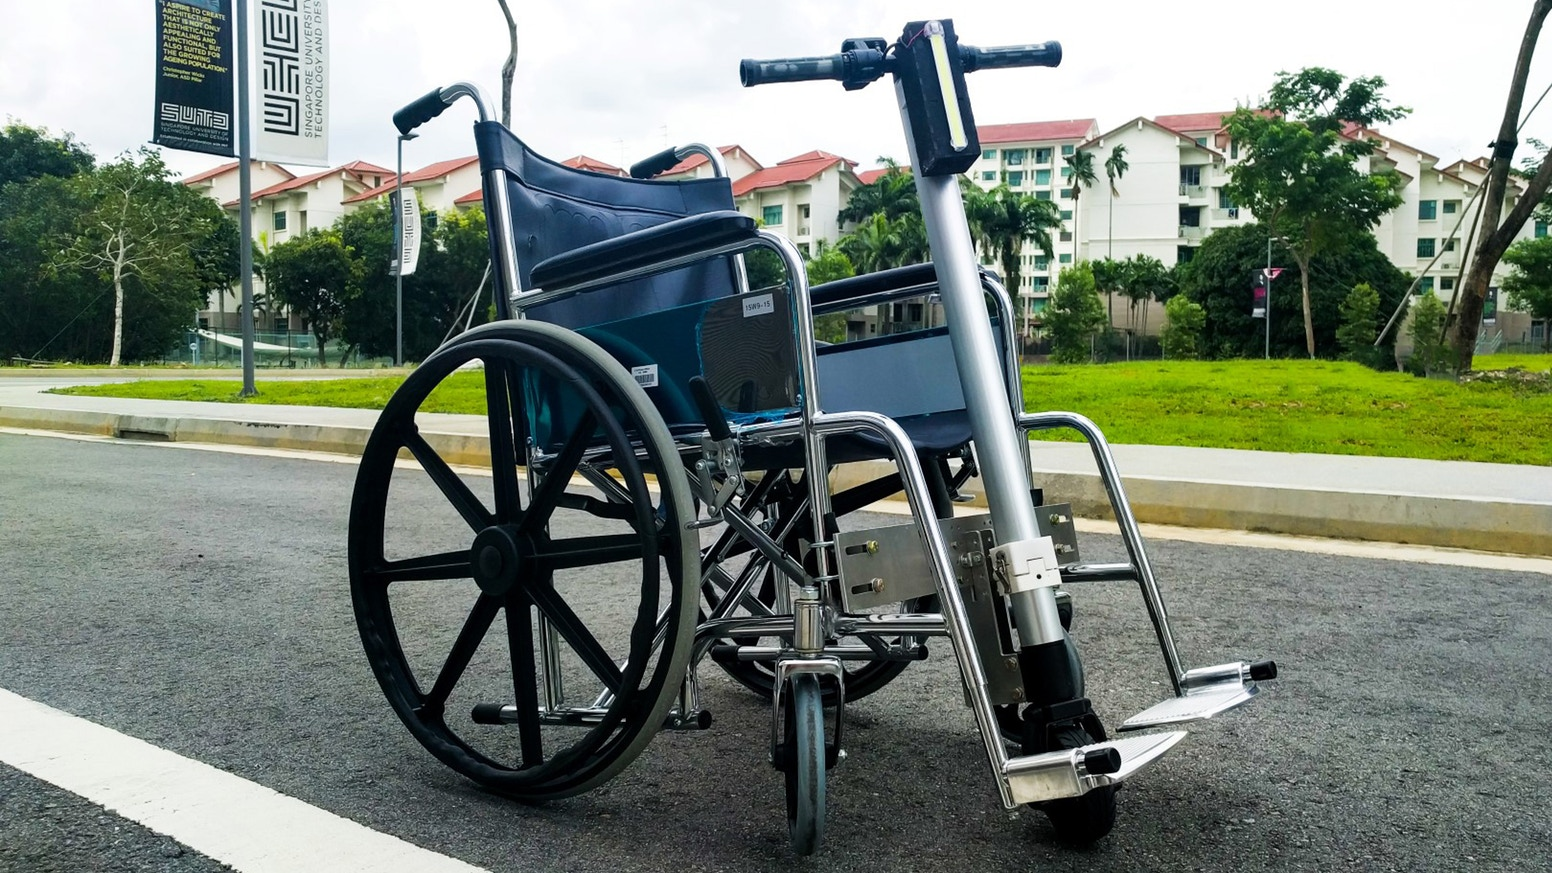wheelchair: (349, 86, 917, 801)
